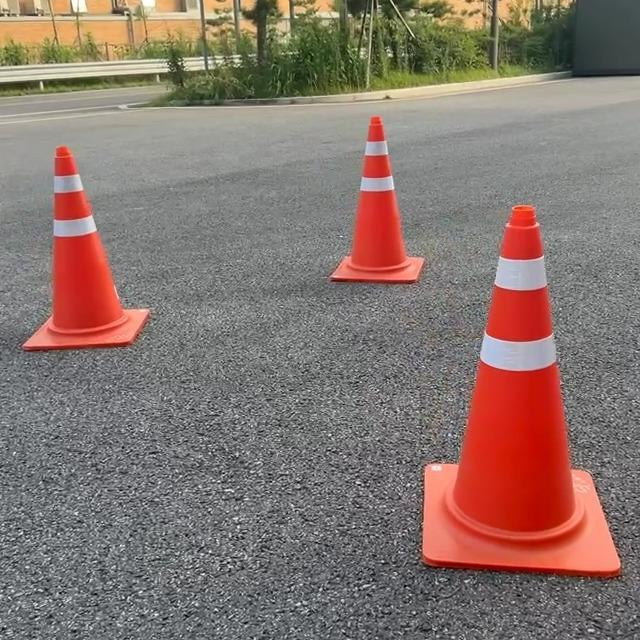fallen_object: (437, 172, 640, 608), (0, 119, 169, 356), (290, 85, 433, 298)
